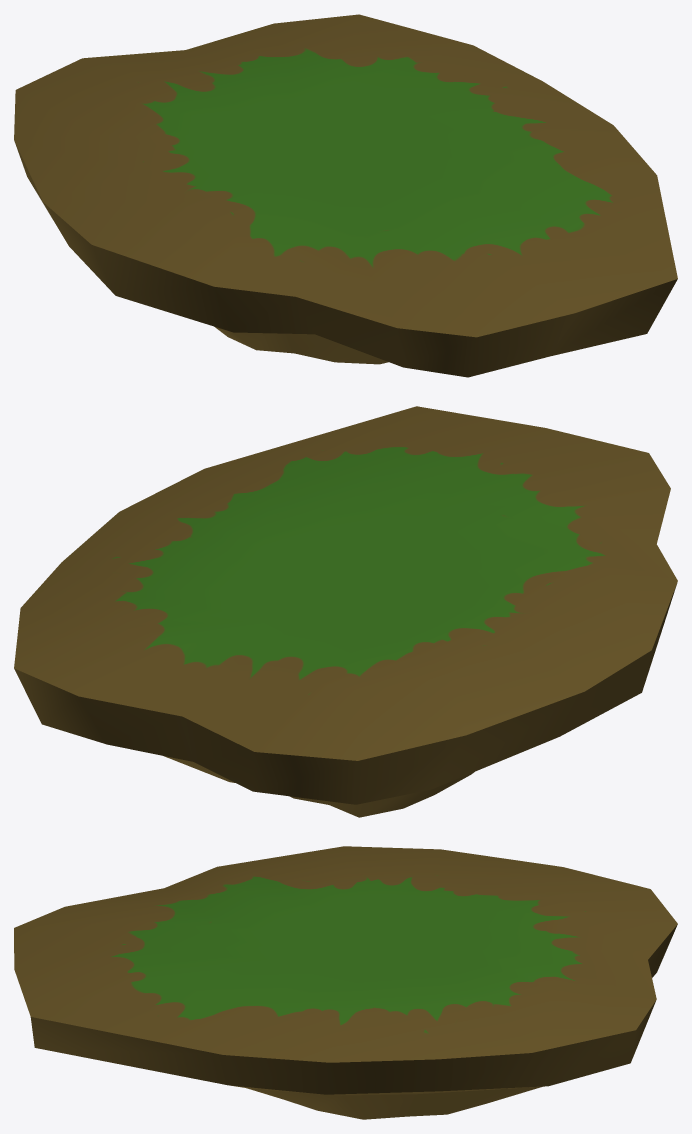
Rendered from SmallIsland_2.FBX.
The picture shows the model from 3 angles, top to bottom: view 1: azimuth 30°, elevation 25°; view 2: azimuth 150°, elevation 25°; view 3: azimuth 270°, elevation 25°; orthographic projection. The views are drawn at different scales.
Visible parts, largest first — view 1: SmallIsland004; view 2: SmallIsland004; view 3: SmallIsland004.
Part boxes in pixels (bbox=[...]): SmallIsland004: bbox=[14, 14, 677, 377]; SmallIsland004: bbox=[14, 406, 677, 817]; SmallIsland004: bbox=[14, 846, 677, 1119].
Bounding box in the file's own units: 94.88 × 30.33 × 123.
1 material, 1 textured.
